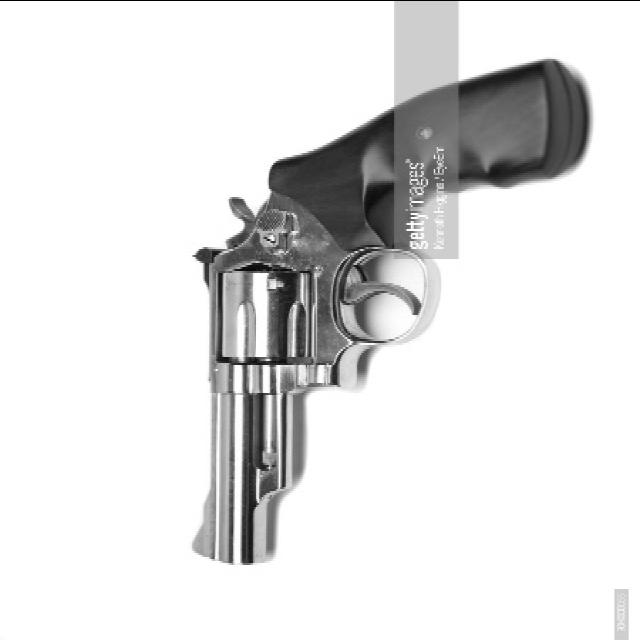handgun: (186, 57, 593, 571)
